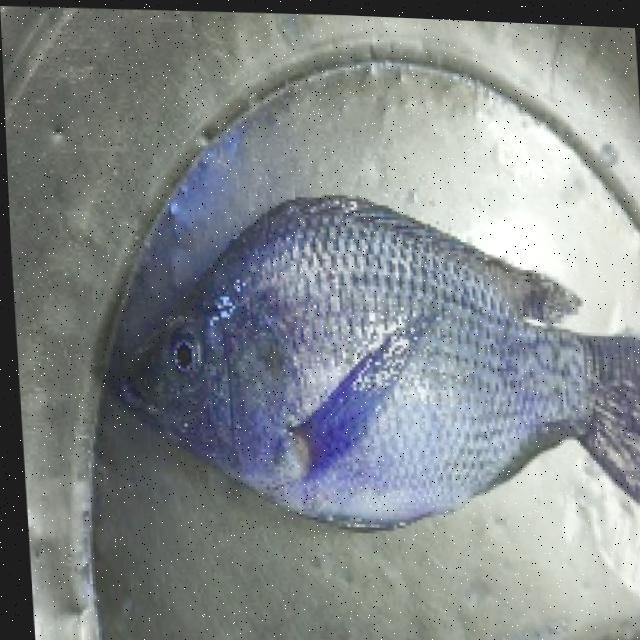Fresh: (73, 162, 640, 568)
